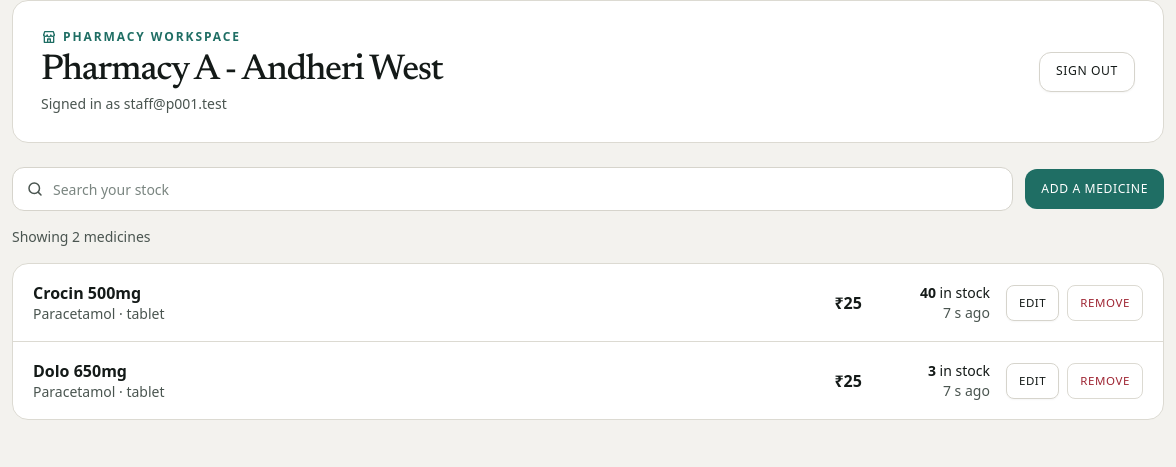
Test: PortalPage › signs out
The width and height of the screenshot is (1176, 467).
Step 1. Click the button "Sign out" → (1087, 72), box [1039, 52, 1135, 92]
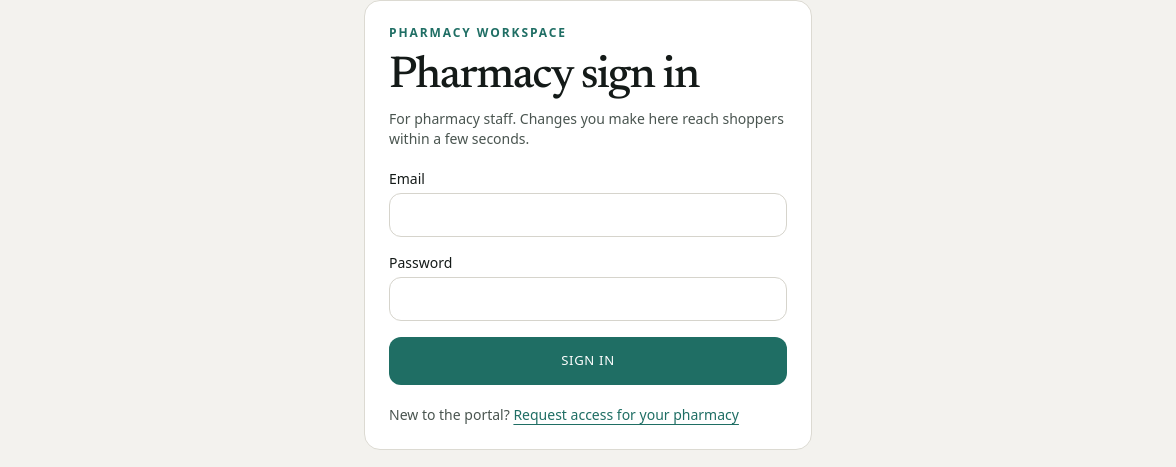
Check: the password field labelled "Password" is shown, box [389, 277, 787, 321]
